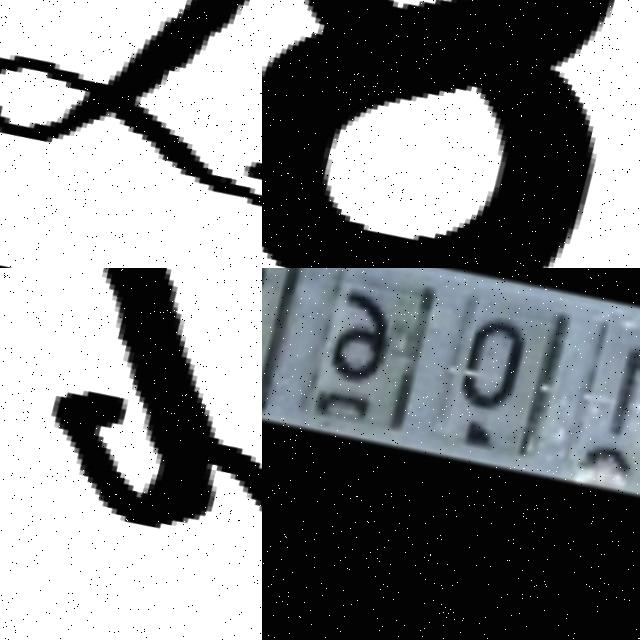0: (447, 313, 544, 433)
1: (586, 337, 640, 454)
6: (321, 281, 413, 398)
8: (262, 0, 640, 268)
R: (113, 0, 262, 141)
U: (0, 268, 262, 628)
